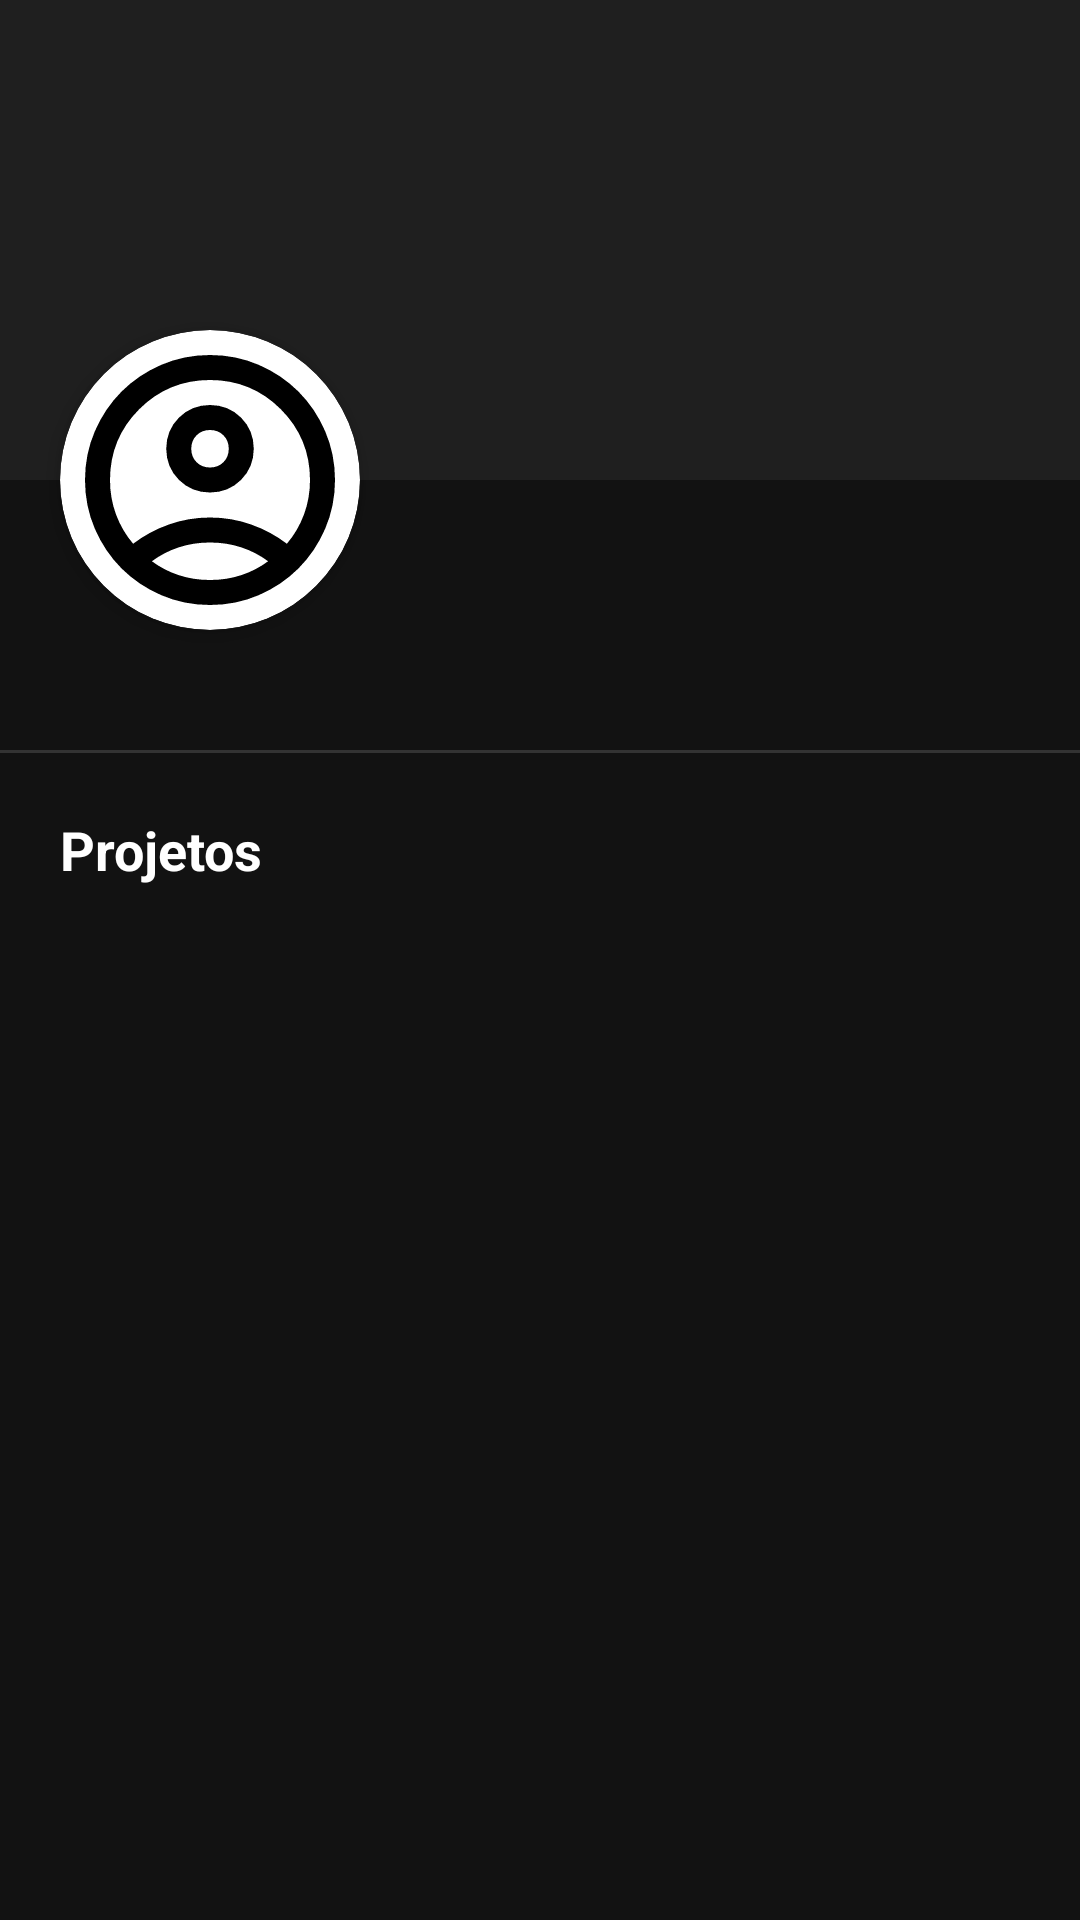

Icons on this 1080×1920 Android screen, each with the point to tap as [x,y]:
account: [210,480]
